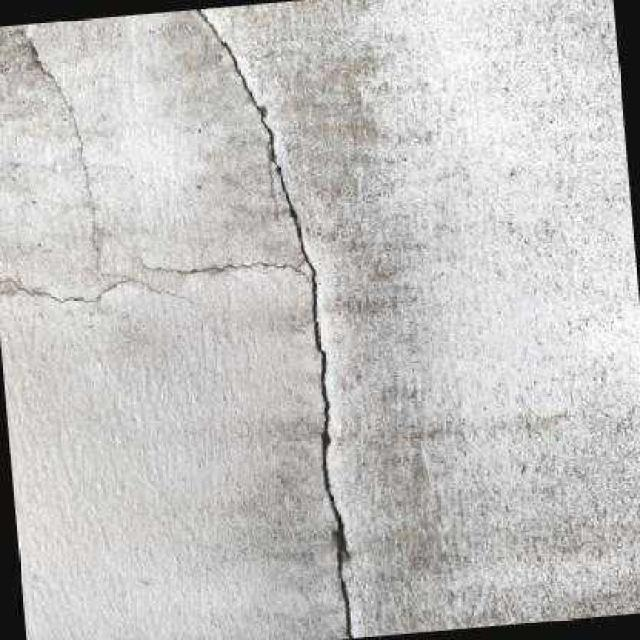D00: (194, 9, 356, 639), (22, 35, 101, 266), (0, 273, 180, 307), (141, 256, 306, 281)
